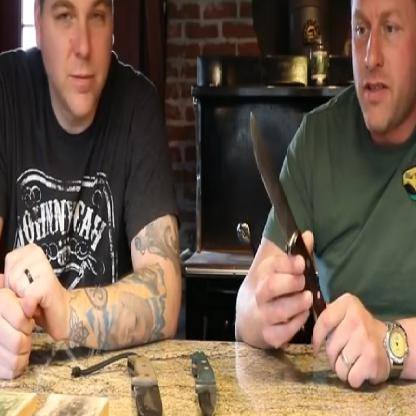knife: (237, 81, 337, 326)
